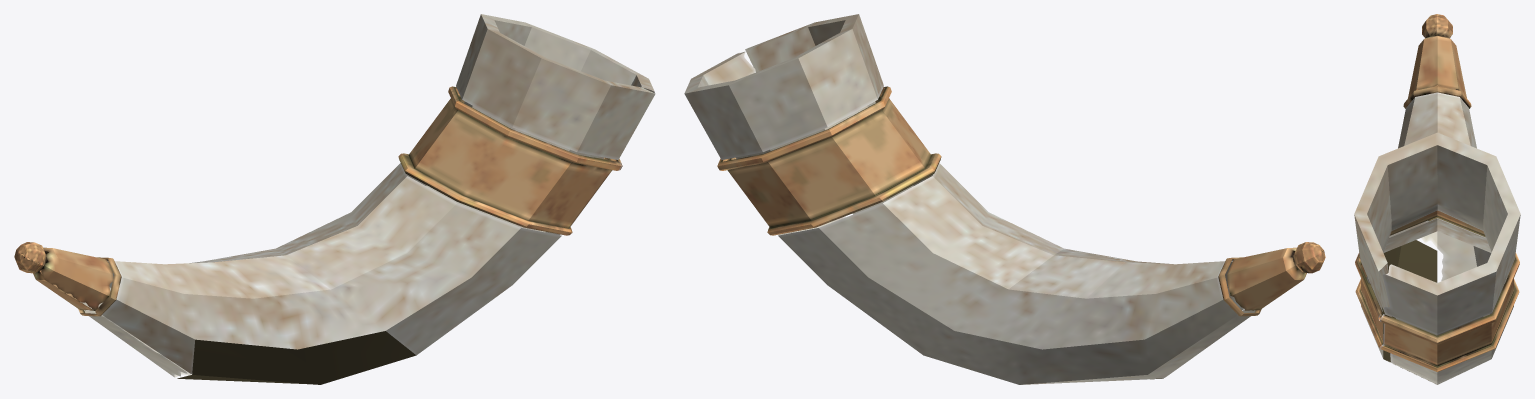
Rendered from SM_drinking_horn.fbx.
3 views of the same model, side by side, from view 1: azimuth 30°, elevation 25°; view 2: azimuth 150°, elevation 25°; view 3: azimuth 270°, elevation 25° (orthographic). The views are drawn at different scales.
Parts seen in each view (by area): view 1: SM_drinking_horn; view 2: SM_drinking_horn; view 3: SM_drinking_horn.
Part boxes in pixels (x1,y1,x2,y2): SM_drinking_horn: [14, 14, 655, 384]; SM_drinking_horn: [684, 14, 1325, 384]; SM_drinking_horn: [1354, 14, 1520, 384].
Bounding box in the file's own units: 6.37 × 3 × 1.5.
Materials: 1 (1 with a texture image).
